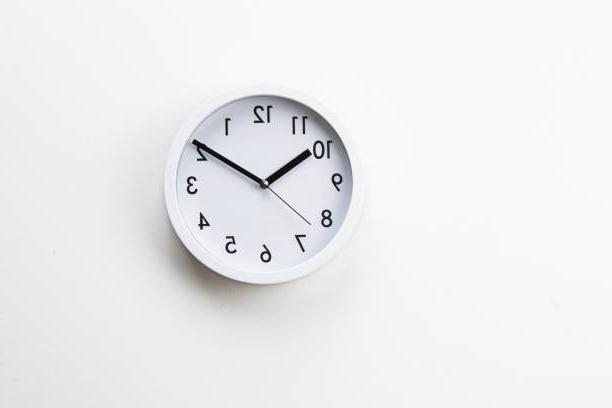clock: (158, 75, 369, 293)
